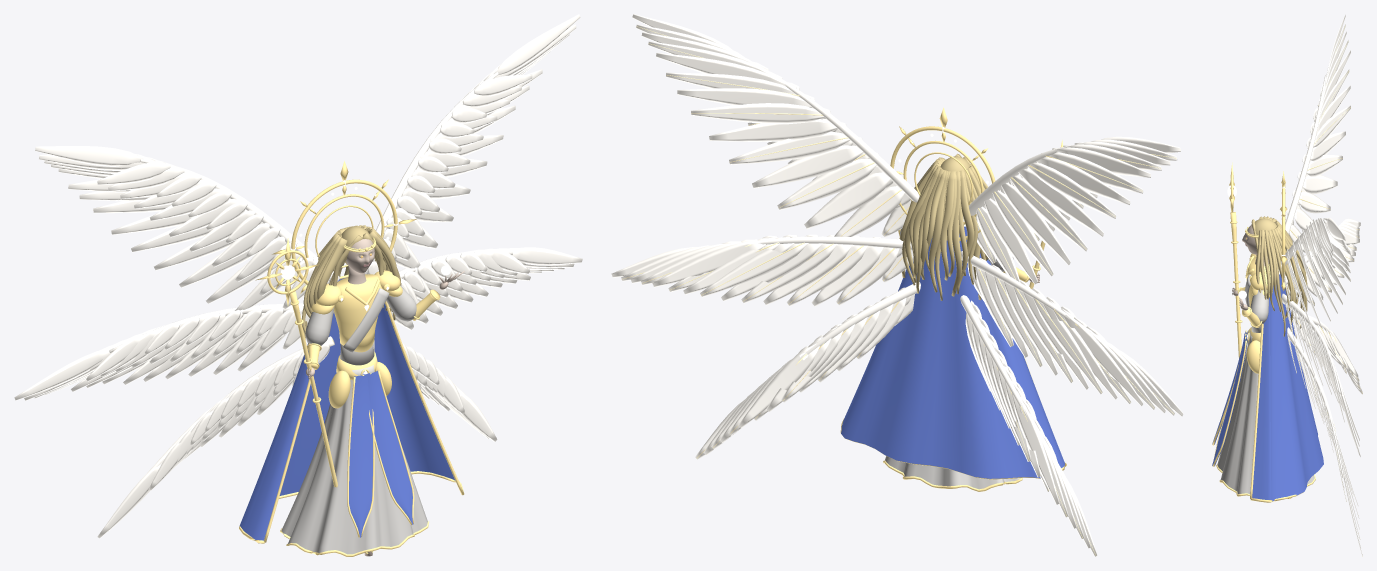
File: archangel_solaris.glb
The picture shows the model from 3 angles, left to right: view 1: azimuth 30°, elevation 25°; view 2: azimuth 150°, elevation 25°; view 3: azimuth 270°, elevation 25°; orthographic projection. The views are drawn at different scales.
Parts seen in each view (by area): view 1: ArchangelSixWingsFeathers, ArchangelStarCloak, ArchangelWhiteSkirt, ArchangelStarTabard, ArchangelArmor, SolarisGoldenHair, ArchangelSleevesSash, ArchangelHaloGold, SolarisStarburstStaff, ArchangelCloakGoldTrim, ArchangelTabardGoldTrim, ArchangelHeadSkin; view 2: ArchangelSixWingsFeathers, ArchangelStarCloak, SolarisGoldenHair, ArchangelSixWingsQuills, ArchangelHaloGold, ArchangelWhiteSkirt; view 3: ArchangelSixWingsFeathers, ArchangelStarCloak, ArchangelWhiteSkirt, SolarisGoldenHair, ArchangelArmor, ArchangelStarTabard, SolarisStarburstStaff, ArchangelCloakGoldTrim, ArchangelSleevesSash, ArchangelTabardGoldTrim, ArchangelSixWingsQuills, ArchangelHaloGold (+1 smaller).
Boxes of the visible parts, x1,y1,x2,y2 form: ArchangelSixWingsFeathers: [14, 14, 582, 538]; ArchangelStarCloak: [239, 278, 455, 540]; ArchangelWhiteSkirt: [281, 365, 427, 554]; ArchangelStarTabard: [349, 370, 413, 537]; ArchangelArmor: [308, 270, 440, 408]; SolarisGoldenHair: [302, 225, 401, 339]; ArchangelSleevesSash: [305, 285, 416, 365]; ArchangelHaloGold: [272, 161, 416, 293]; SolarisStarburstStaff: [255, 238, 337, 487]; ArchangelCloakGoldTrim: [239, 301, 464, 543]; ArchangelTabardGoldTrim: [347, 371, 414, 537]; ArchangelHeadSkin: [346, 239, 374, 284]; ArchangelSixWingsFeathers: [611, 14, 1183, 556]; ArchangelStarCloak: [841, 226, 1064, 478]; SolarisGoldenHair: [900, 153, 989, 300]; ArchangelSixWingsQuills: [622, 26, 1176, 555]; ArchangelHaloGold: [890, 107, 995, 240]; ArchangelWhiteSkirt: [885, 456, 1020, 489]; ArchangelSixWingsFeathers: [1278, 14, 1362, 556]; ArchangelStarCloak: [1252, 274, 1323, 500]; ArchangelWhiteSkirt: [1217, 330, 1314, 494]; SolarisGoldenHair: [1251, 216, 1307, 336]; ArchangelArmor: [1237, 253, 1272, 373]; ArchangelStarTabard: [1212, 331, 1247, 466]; SolarisStarburstStaff: [1229, 162, 1242, 358]; ArchangelCloakGoldTrim: [1250, 324, 1303, 502]; ArchangelSleevesSash: [1245, 274, 1268, 332]; ArchangelTabardGoldTrim: [1212, 330, 1246, 466]; ArchangelSixWingsQuills: [1287, 25, 1362, 556]; ArchangelHaloGold: [1280, 171, 1287, 290].
Size of the model in its own units: 6.19 by 4.56 by 1.69.
